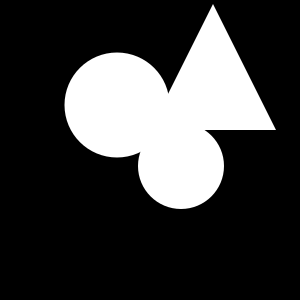rectangle: (65, 52, 169, 157), (138, 123, 224, 209)
triangle: (150, 4, 276, 130)
